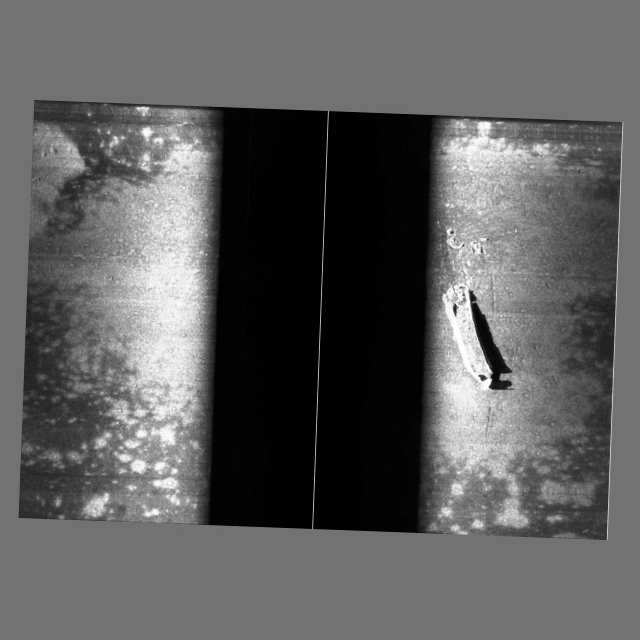Shipwreck: (429, 203, 518, 391)
